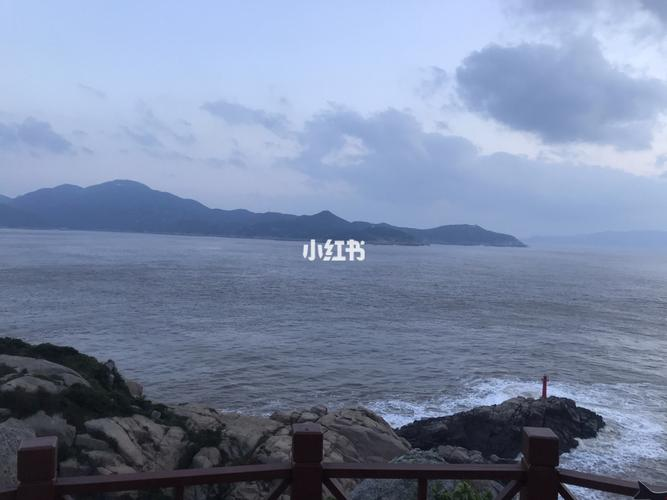mountain: (6, 343, 579, 492), (7, 175, 535, 273)
sea_river: (6, 225, 655, 380)
sky_cloud: (2, 74, 666, 198)
